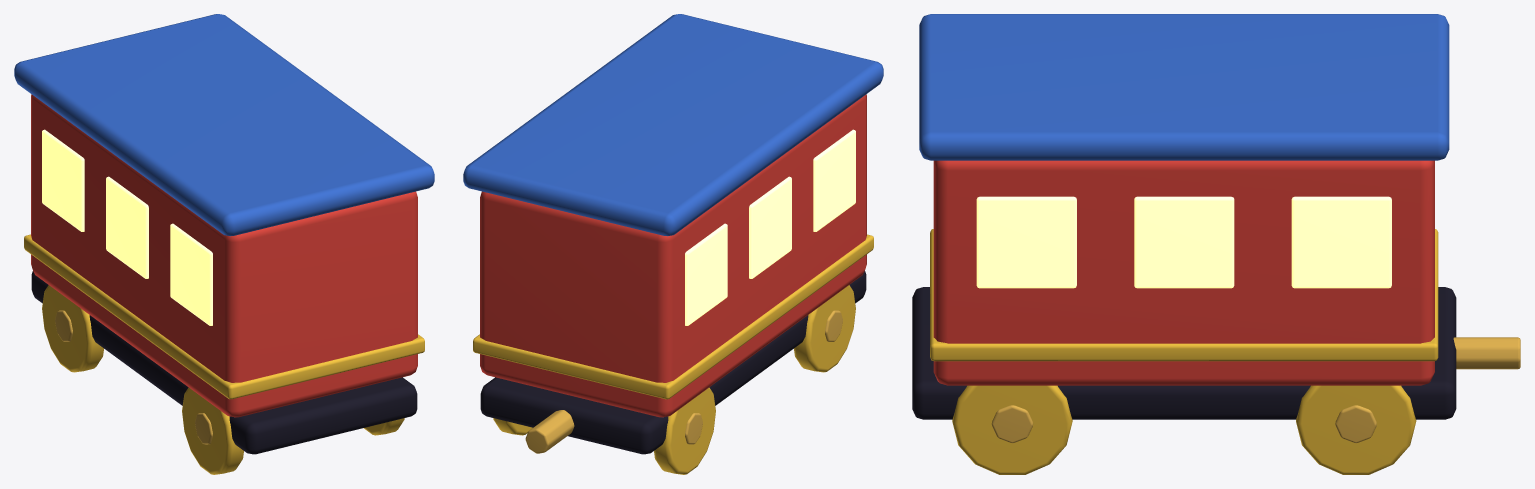
The model's file is toy_train_car_b.glb.
3 views of the same model, side by side, from view 1: azimuth 30°, elevation 25°; view 2: azimuth 150°, elevation 25°; view 3: azimuth 270°, elevation 25° (orthographic). The views are drawn at different scales.
Visible parts, largest first — view 1: toy_train_car_b; view 2: toy_train_car_b; view 3: toy_train_car_b.
Boxes of the visible parts, bbox=[...] form: toy_train_car_b: bbox=[14, 14, 434, 474]; toy_train_car_b: bbox=[463, 14, 883, 474]; toy_train_car_b: bbox=[912, 14, 1520, 474].
Bounding box in the file's own units: 2.1 × 2.7 × 4.25.
